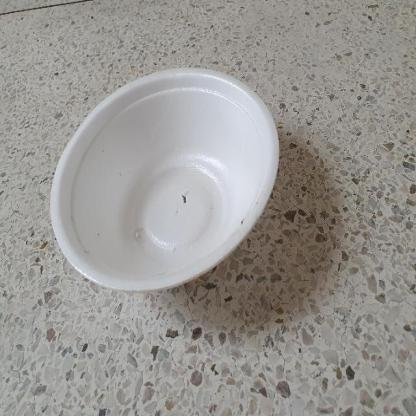Glass Cup: (49, 68, 281, 293), (50, 67, 279, 291)
